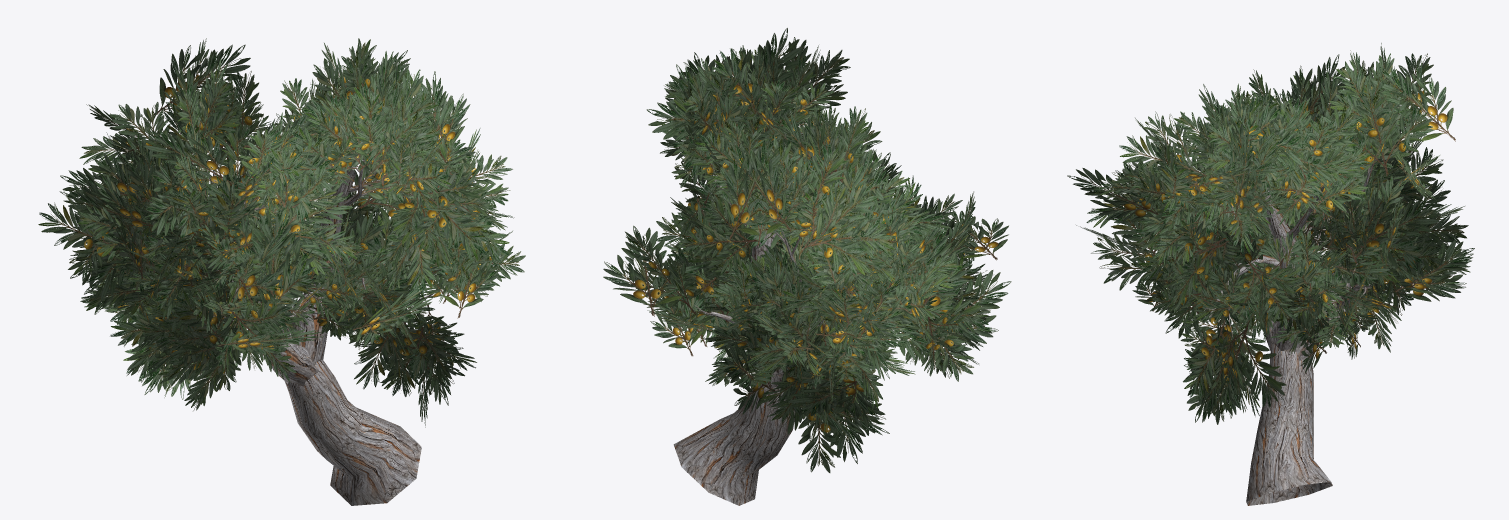
The model's file is nature-white-olive-sunleaf.glb.
The picture shows the model from 3 angles, left to right: view 1: azimuth 30°, elevation 25°; view 2: azimuth 150°, elevation 25°; view 3: azimuth 270°, elevation 25°; orthographic projection. The views are drawn at different scales.
Visible parts, largest first — view 1: nature-white-olive-sunleaf; view 2: nature-white-olive-sunleaf; view 3: nature-white-olive-sunleaf.
Boxes of the visible parts, x1,y1,x2,y2 form: nature-white-olive-sunleaf: (38,38,525,505); nature-white-olive-sunleaf: (603,28,1011,505); nature-white-olive-sunleaf: (1067,43,1474,505).
Size of the model in its own units: 5.1 by 5.53 by 5.04.
Materials: 2 (2 with a texture image).
